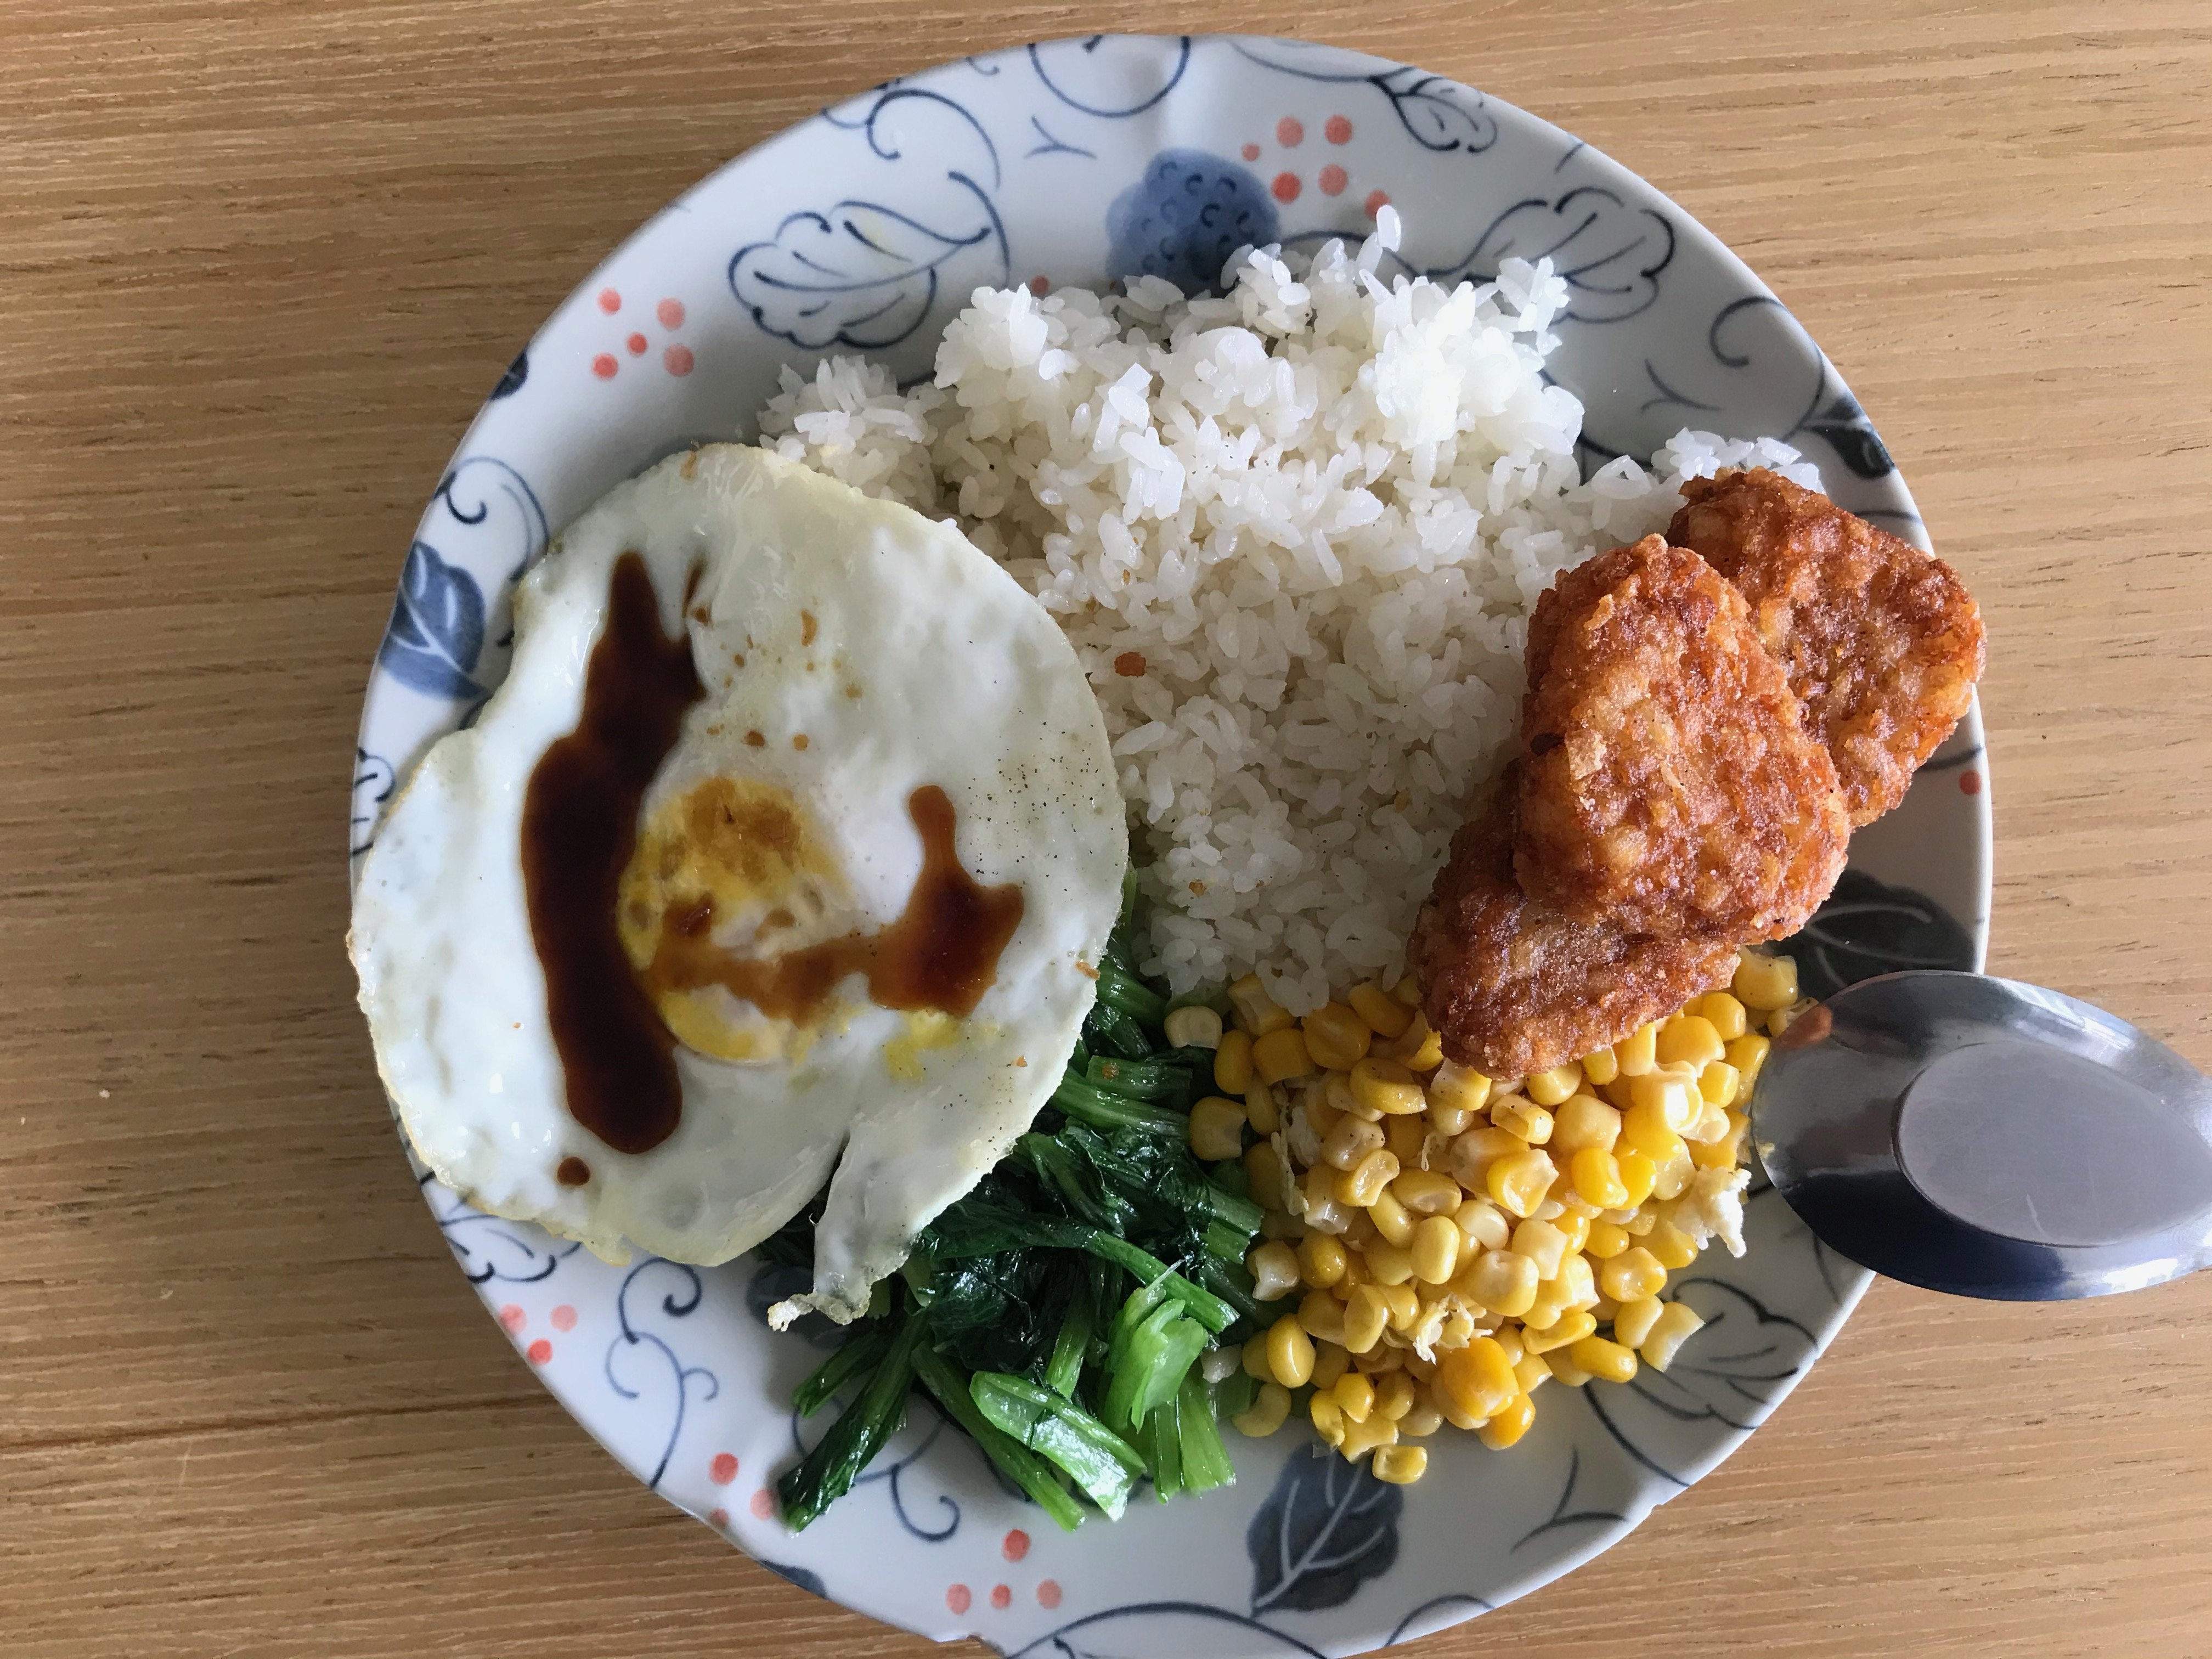fried_eggs: (364, 451, 1127, 1267)
rice: (1075, 286, 1547, 988)
triangle_hash_brown: (1407, 479, 1982, 1072)
water_spinach: (779, 1082, 1247, 1525)
